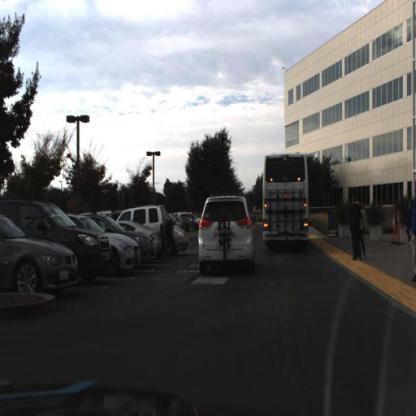car: (2, 195, 114, 278), (3, 219, 79, 296), (194, 189, 258, 276), (135, 206, 178, 243), (108, 228, 140, 270), (111, 230, 142, 272), (132, 219, 161, 249), (170, 221, 189, 257), (184, 212, 205, 228)
pedestrian: (348, 196, 368, 265), (407, 195, 416, 286)
truck: (264, 154, 312, 251)
